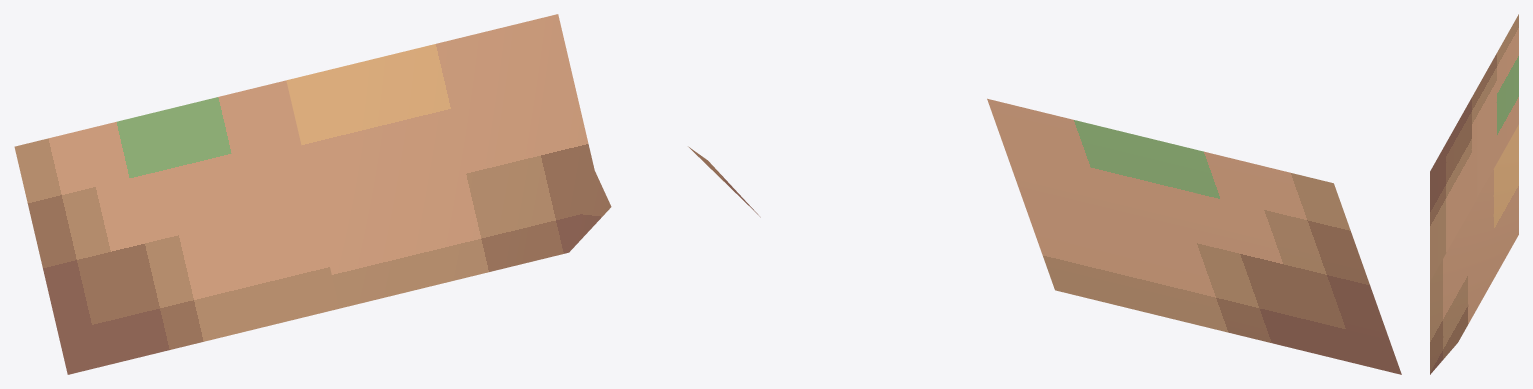
3 renders of one model, left to right at view 1: azimuth 30°, elevation 25°; view 2: azimuth 150°, elevation 25°; view 3: azimuth 270°, elevation 25°, orthographic. The views are drawn at different scales.
Bounding box in the file's own units: 1 × 0.3326 × 0.1699.
Materials: 2 (2 with a texture image).
